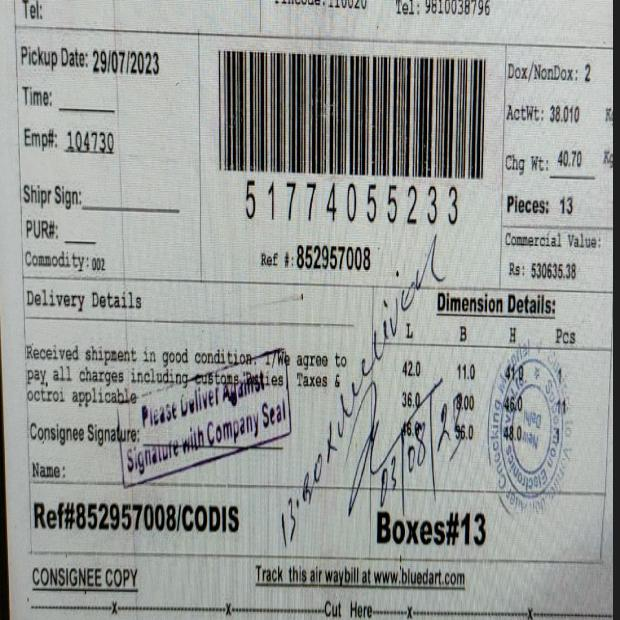Ink-stamps: (114, 344, 294, 485), (488, 325, 574, 527)
